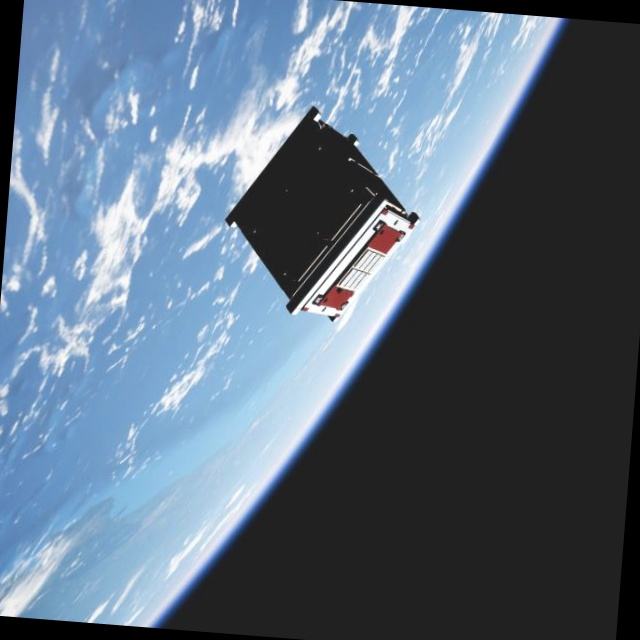medium_debris: (206, 97, 434, 338)
